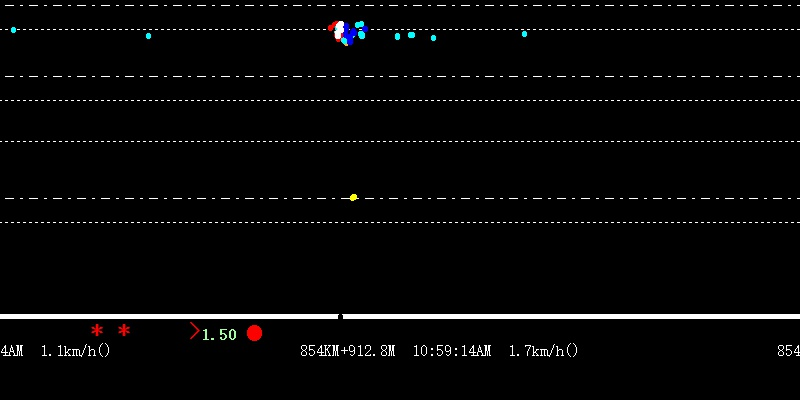circle: (244, 324, 264, 340)
face_down: (392, 25, 401, 41)
star: (88, 320, 107, 339), (116, 322, 132, 341)
